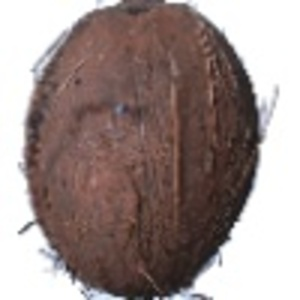coco: (21, 1, 271, 300)
